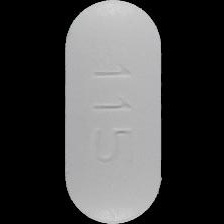61786-516: (0, 0, 224, 224)
